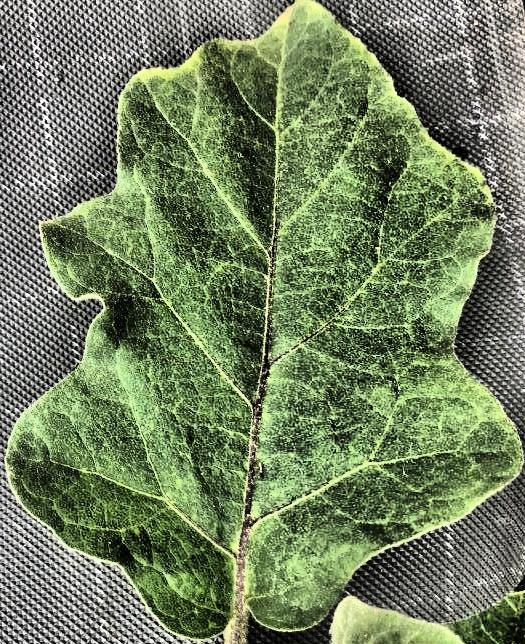HEALTHY: (0, 1, 525, 644)
